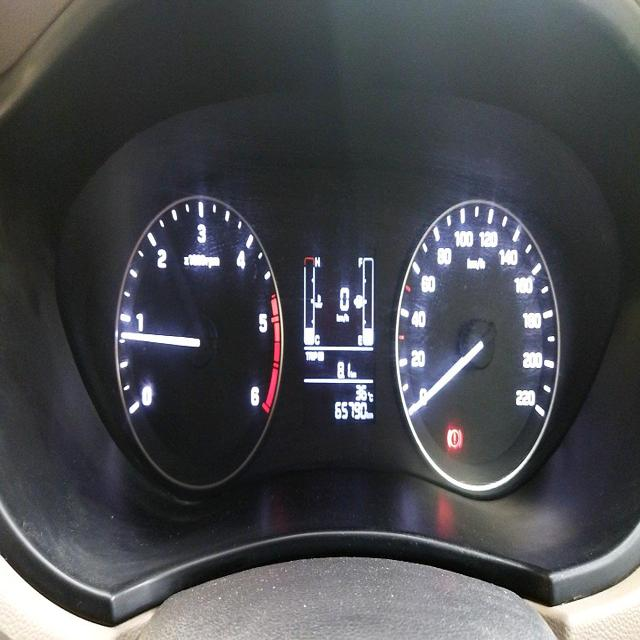odometer: (332, 399, 367, 423)
